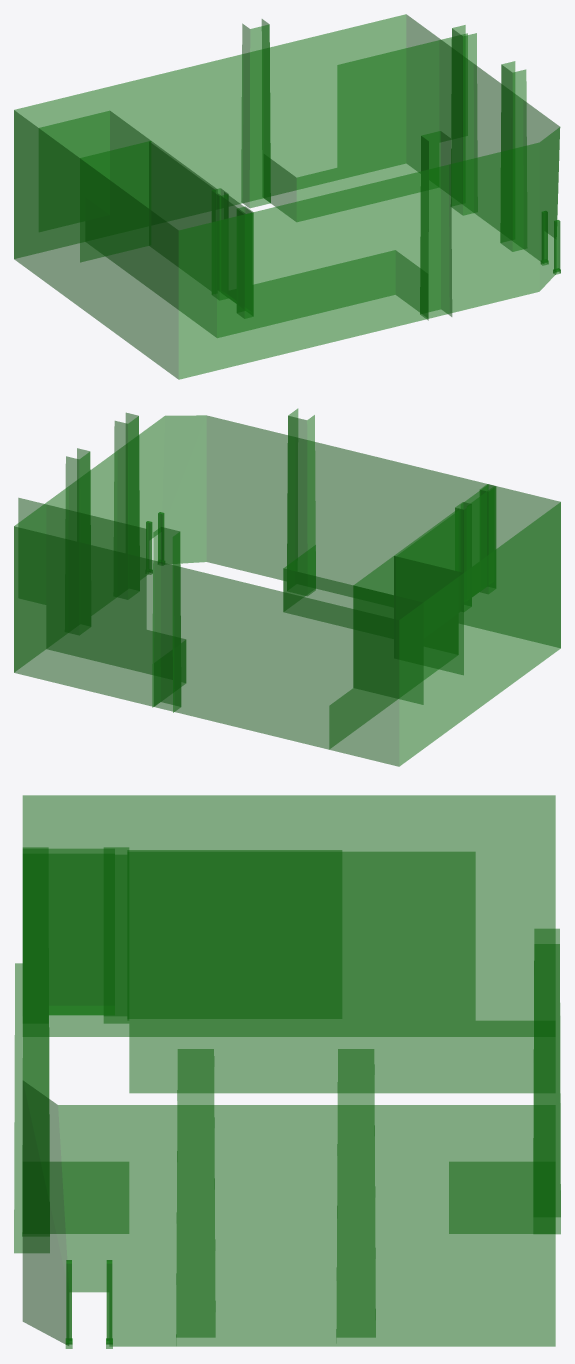
The model's file is wall_A02.obj.
3 views of the same model, one above another, from view 1: azimuth 30°, elevation 25°; view 2: azimuth 150°, elevation 25°; view 3: azimuth 270°, elevation 25° (orthographic). The views are drawn at different scales.
Size of the model in its own units: 59 by 24.2 by 41.06.
